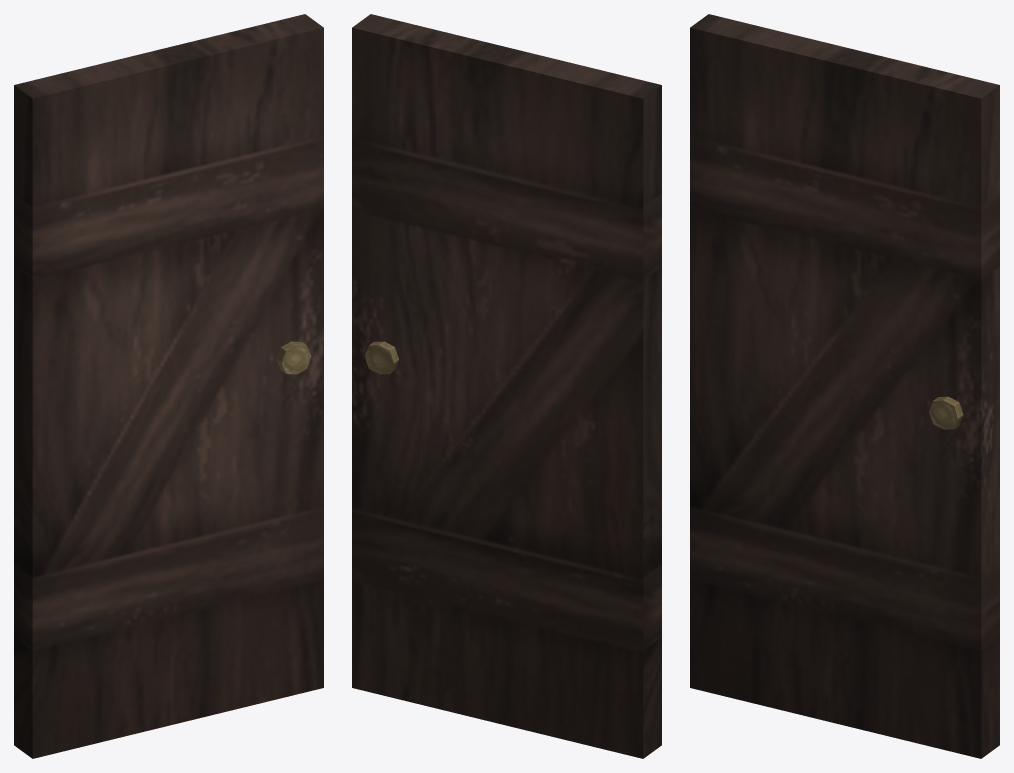
Rendered from Door_3x1.5.fbx.
3 views of the same model, side by side, from view 1: azimuth 30°, elevation 25°; view 2: azimuth 150°, elevation 25°; view 3: azimuth 330°, elevation 25° (orthographic).
Visible parts, largest first — view 1: Door_3x1.5; view 2: Door_3x1.5; view 3: Door_3x1.5.
Boxes of the visible parts, <box> form: Door_3x1.5: <box>14,14,323,758</box>; Door_3x1.5: <box>352,14,661,758</box>; Door_3x1.5: <box>690,14,999,758</box>.
Bounding box in the file's own units: 90 × 195 × 15.54.
